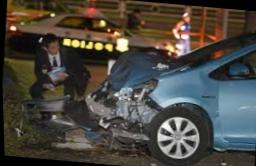Bonnet: (107, 51, 186, 89)
Bumper: (25, 80, 141, 146)
Light: (116, 81, 156, 102)
